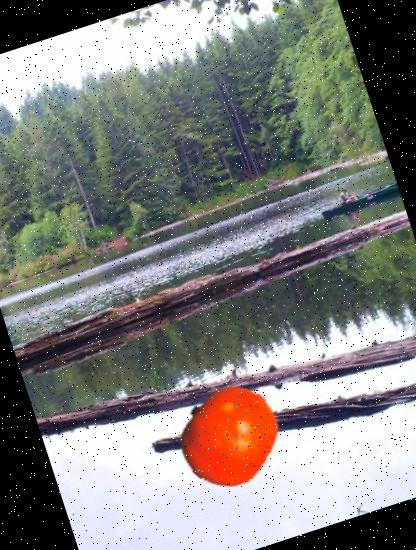Clementine: (164, 370, 294, 500)
